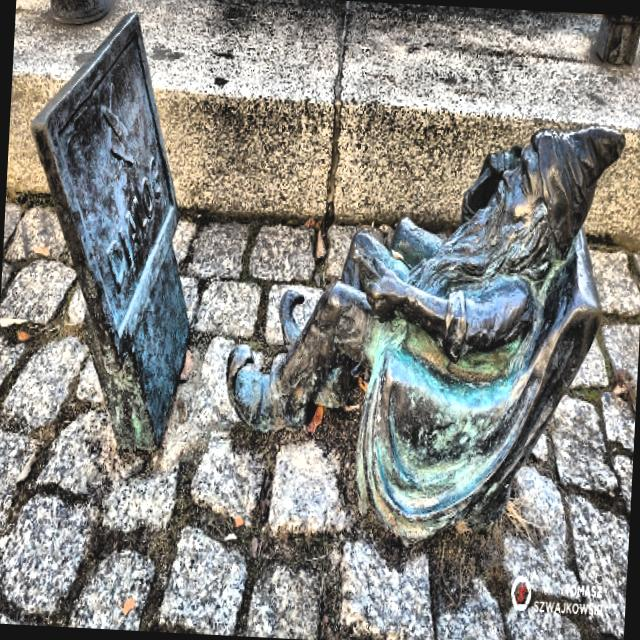Dialogomir: (226, 128, 625, 550), (31, 13, 192, 452)
